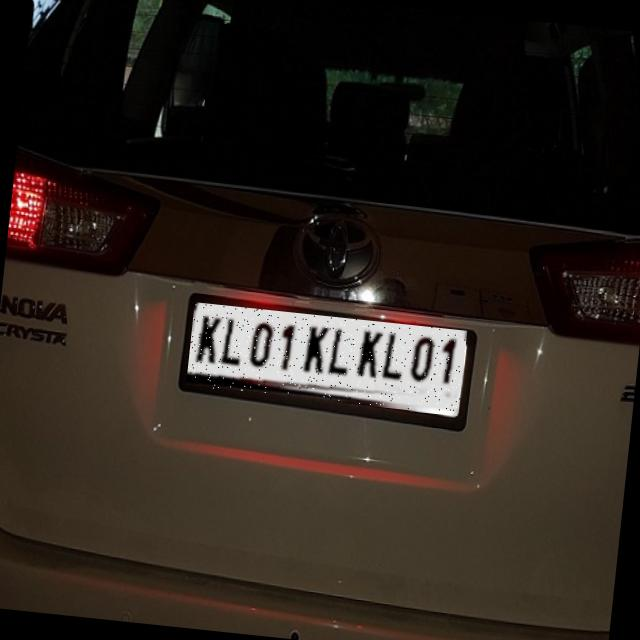Plate: (187, 304, 468, 416)
